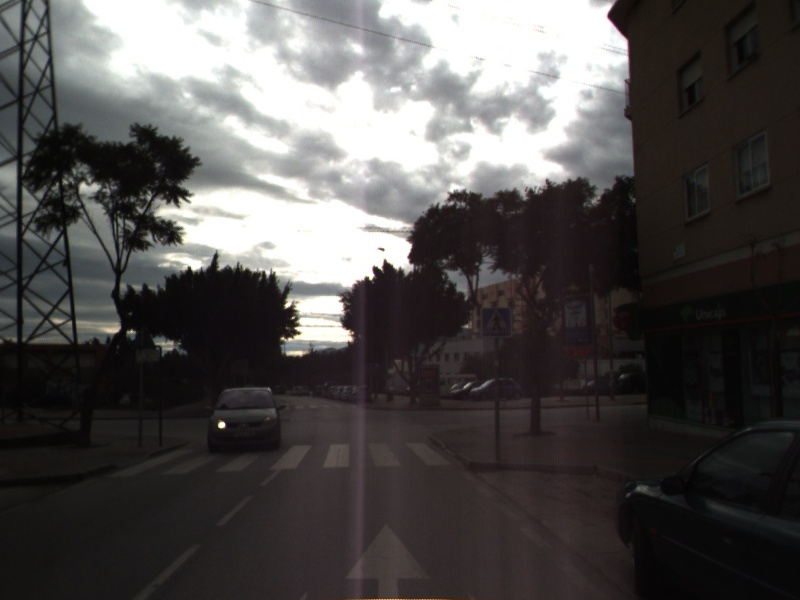STRAIGHT: (339, 516, 436, 600)
